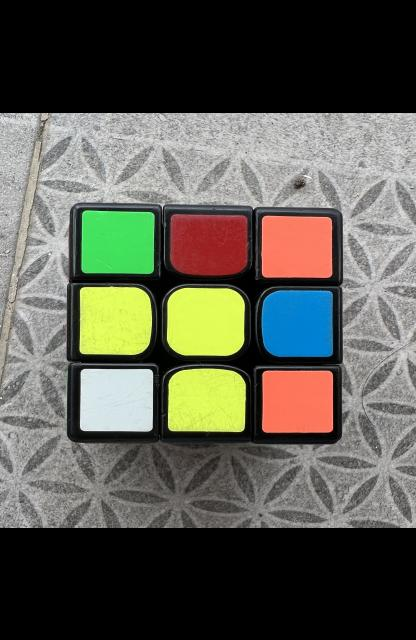Blue: (262, 290, 333, 356)
Green: (82, 210, 154, 273)
Orange: (262, 370, 333, 432), (262, 215, 332, 277)
Red: (170, 214, 248, 274)
White: (79, 368, 153, 430)
Yellow: (167, 286, 244, 355), (79, 285, 152, 354), (168, 368, 245, 432)
